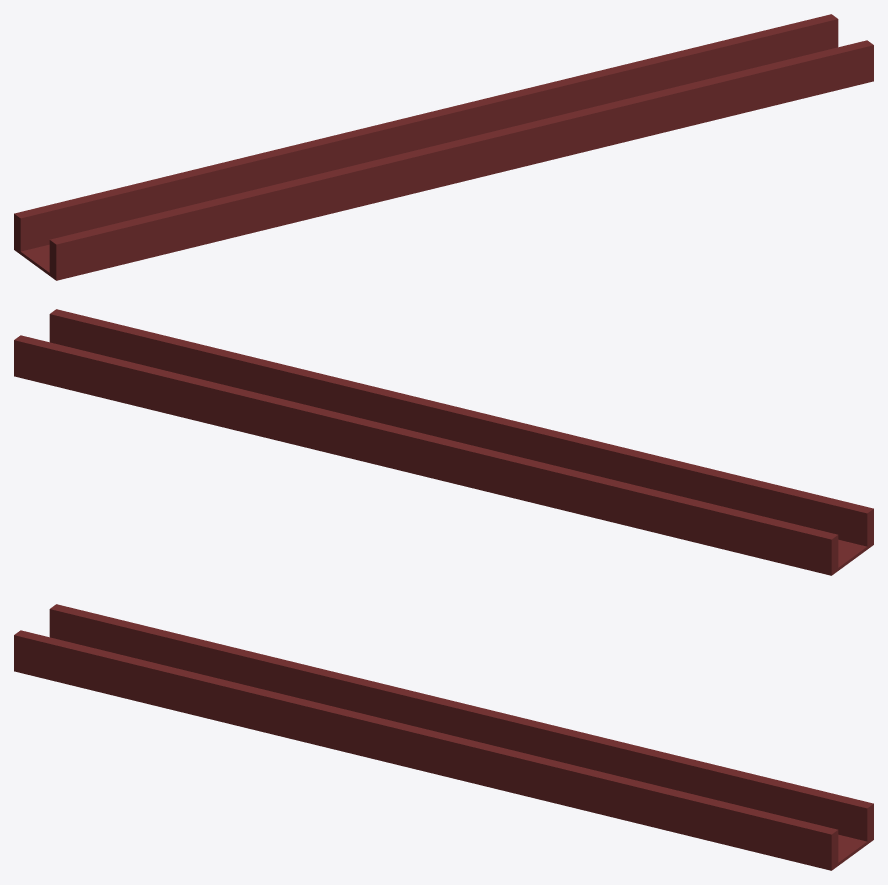
File: Riel_Abajo.fbx
3 views of the same model, one above another, from view 1: azimuth 30°, elevation 25°; view 2: azimuth 150°, elevation 25°; view 3: azimuth 330°, elevation 25° (orthographic).
Parts seen in each view (by area): view 1: pCube7; view 2: pCube7; view 3: pCube7.
Boxes of the visible parts, box(x1,y1,x2,y2) form: pCube7: box(14, 14, 873, 280); pCube7: box(14, 309, 873, 575); pCube7: box(14, 604, 873, 870).
Bounding box in the file's own units: 5.63 × 0.2384 × 0.5051.
